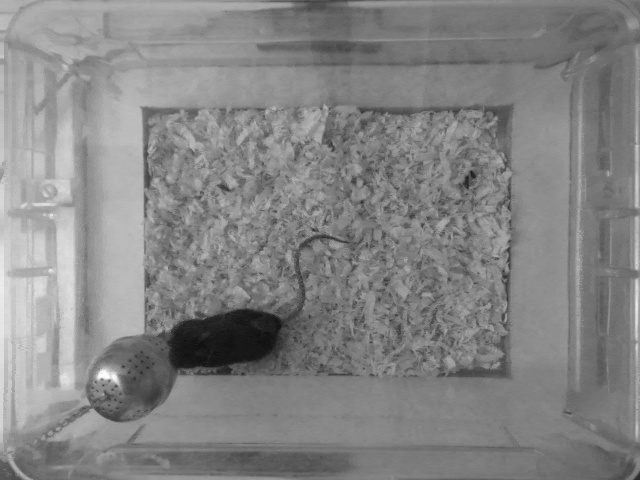mice: (159, 236, 351, 373)
